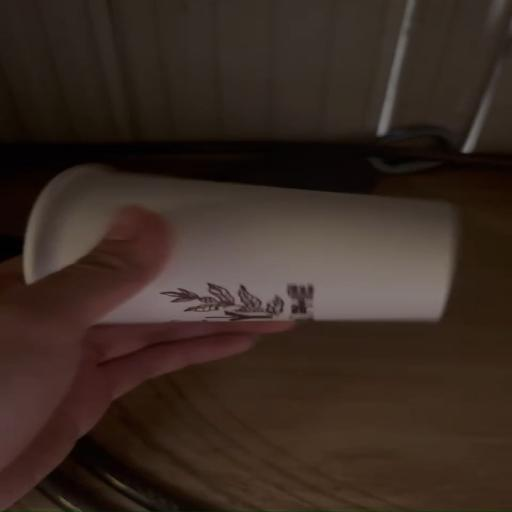ly_giay: (23, 164, 457, 323)
